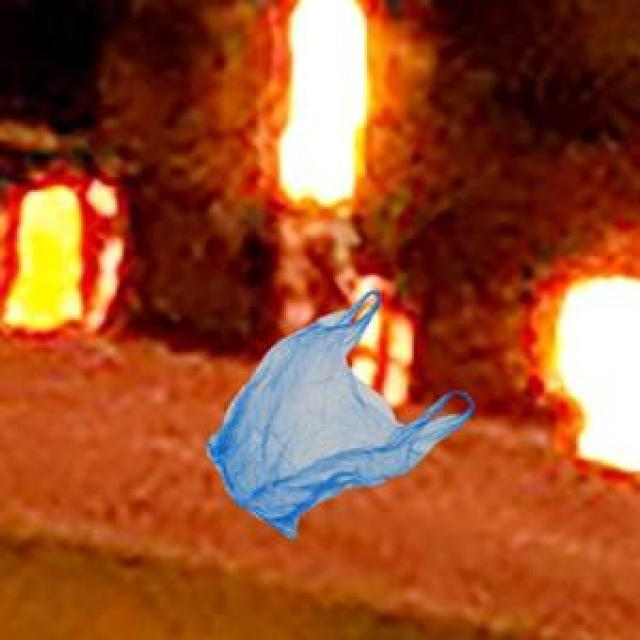waste: (208, 291, 474, 538)
